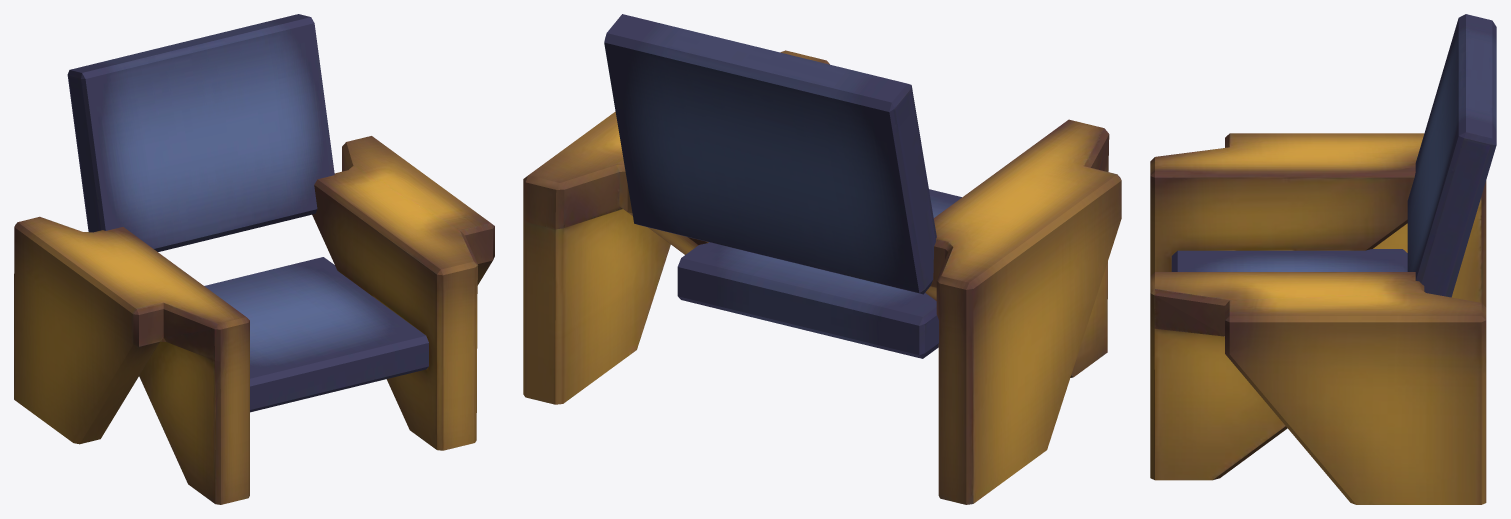
The model's file is pm-seat.glb.
3 views of the same model, side by side, from view 1: azimuth 30°, elevation 25°; view 2: azimuth 150°, elevation 25°; view 3: azimuth 270°, elevation 25° (orthographic). The views are drawn at different scales.
Visible parts, largest first — view 1: Seat; view 2: Seat; view 3: Seat.
Boxes of the visible parts, <box> form: Seat: <box>14,14,494,504</box>; Seat: <box>523,14,1121,504</box>; Seat: <box>1150,14,1496,504</box>.
Bounding box in the file's own units: 1.18 × 1 × 0.9278.
Materials: 1 (1 with a texture image).
